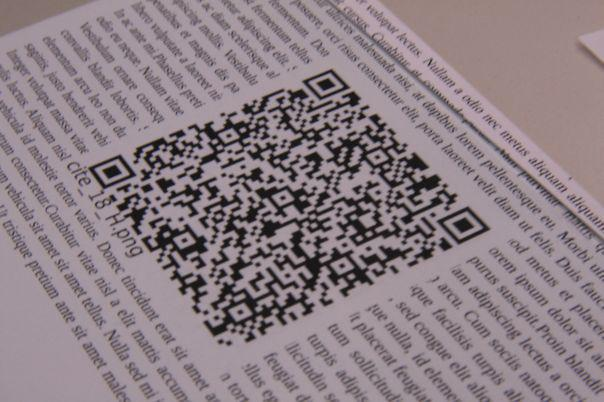Finder pattern: (436, 205, 492, 248), (298, 68, 352, 103), (88, 153, 136, 189)
